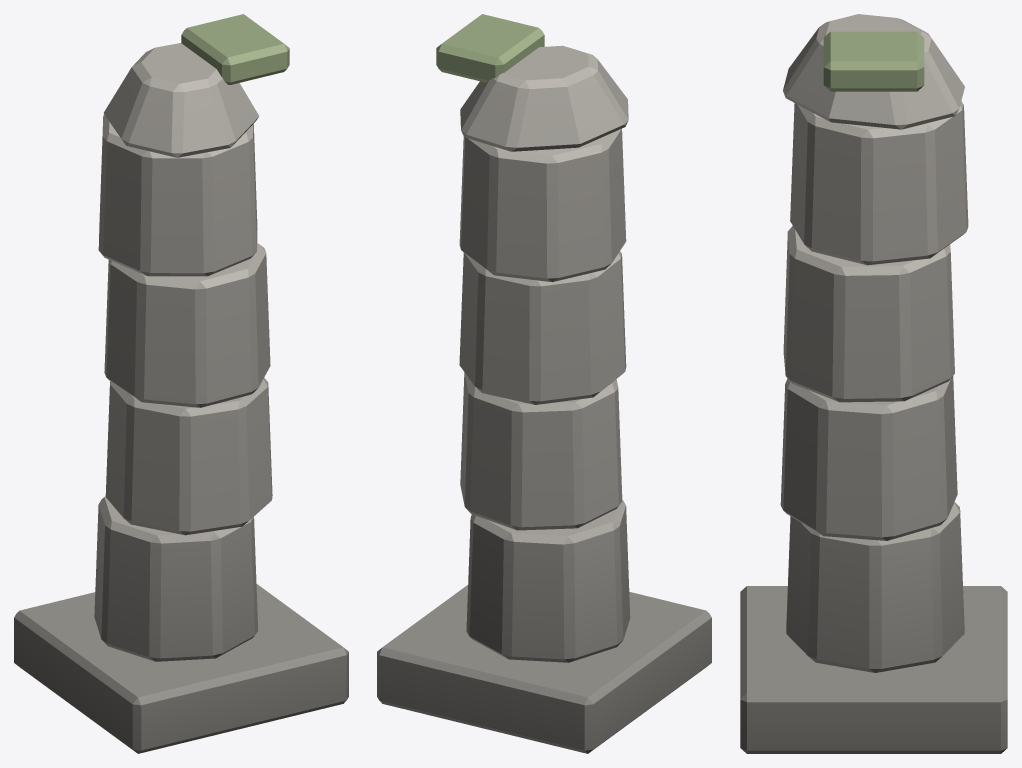
Rendered from iv_ruin_pillar.glb.
The picture shows the model from 3 angles, left to right: view 1: azimuth 30°, elevation 25°; view 2: azimuth 150°, elevation 25°; view 3: azimuth 270°, elevation 25°; orthographic projection. The views are drawn at different scales.
Visible parts, largest first — view 1: iv_ruin_pillar; view 2: iv_ruin_pillar; view 3: iv_ruin_pillar.
Boxes of the visible parts, x1,y1,x2,y2 form: iv_ruin_pillar: (14,14,348,753); iv_ruin_pillar: (377,14,711,753); iv_ruin_pillar: (740,14,1007,753).
Size of the model in its own units: 1.6 by 4.5 by 1.6.
